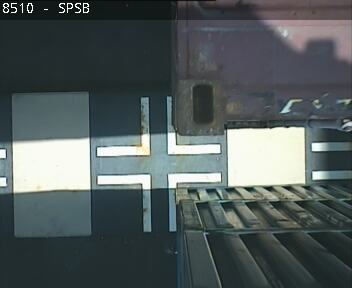groundmarker_1: (96, 170, 222, 232), (96, 95, 221, 157)
